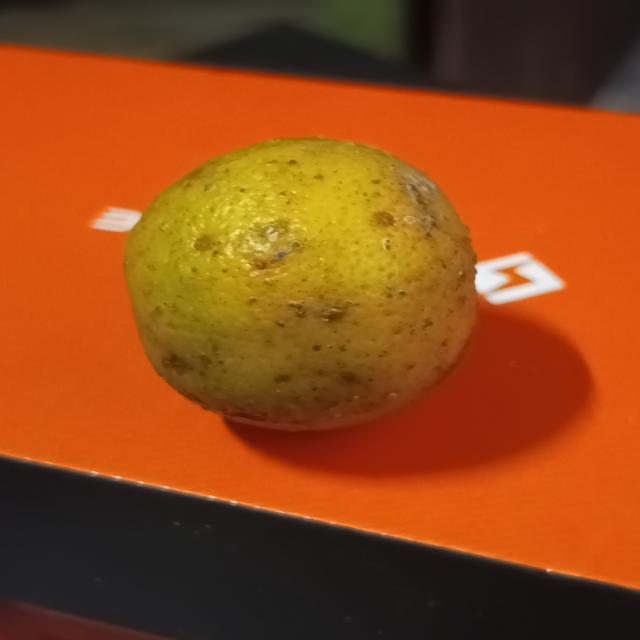black spot: (118, 132, 482, 432)
